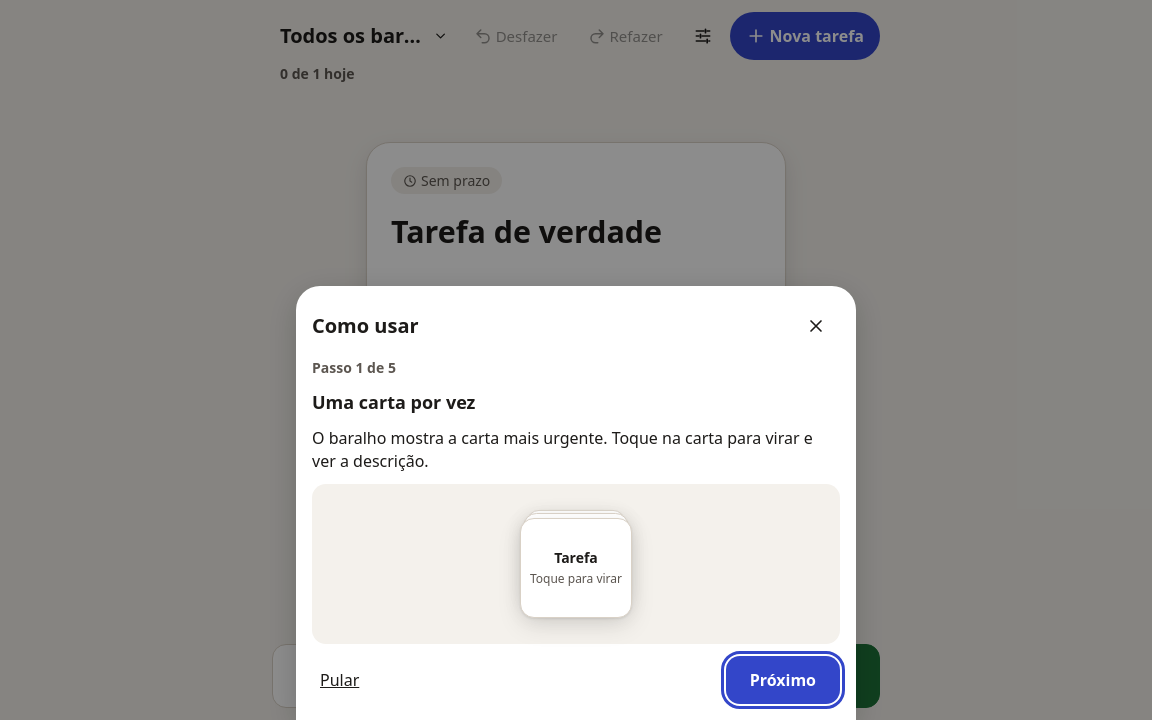
Test case: practice isolation › doing every exercise never touches the real deck, its history, its live region or storage
Click the button "Próximo".
click(783, 680)  # box [726,656,840,704]
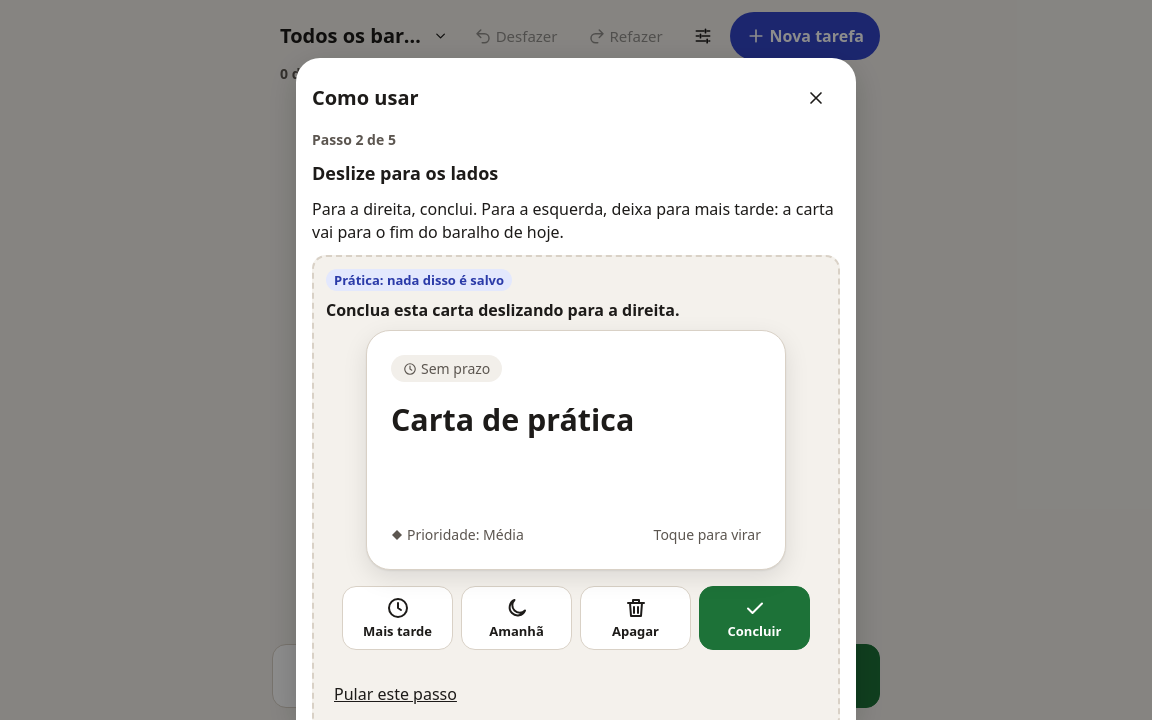
Click the button "Concluir".
click(754, 618)  # box [699,586,810,650]
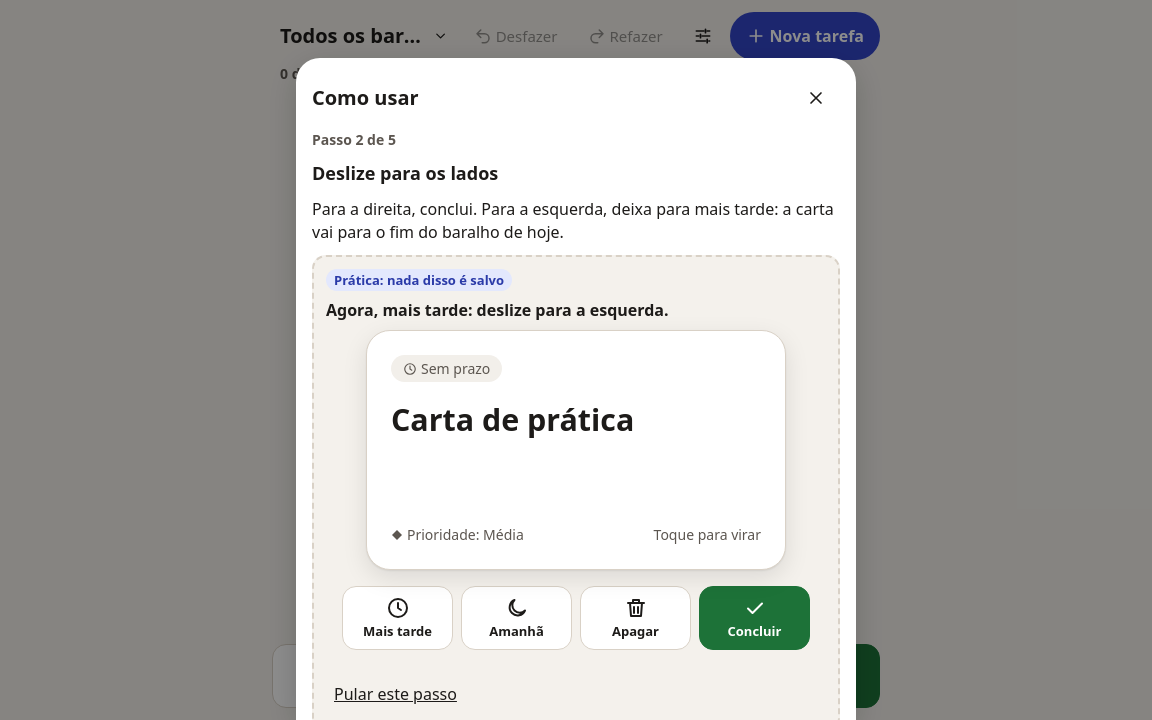
Expected: the element with test id "practice-deck" shows "Agora, mais tarde: deslize para a esquerda.", [326,299,668,321]
Click the button "Mais tarde".
click(398, 618)  # box [342,586,453,650]
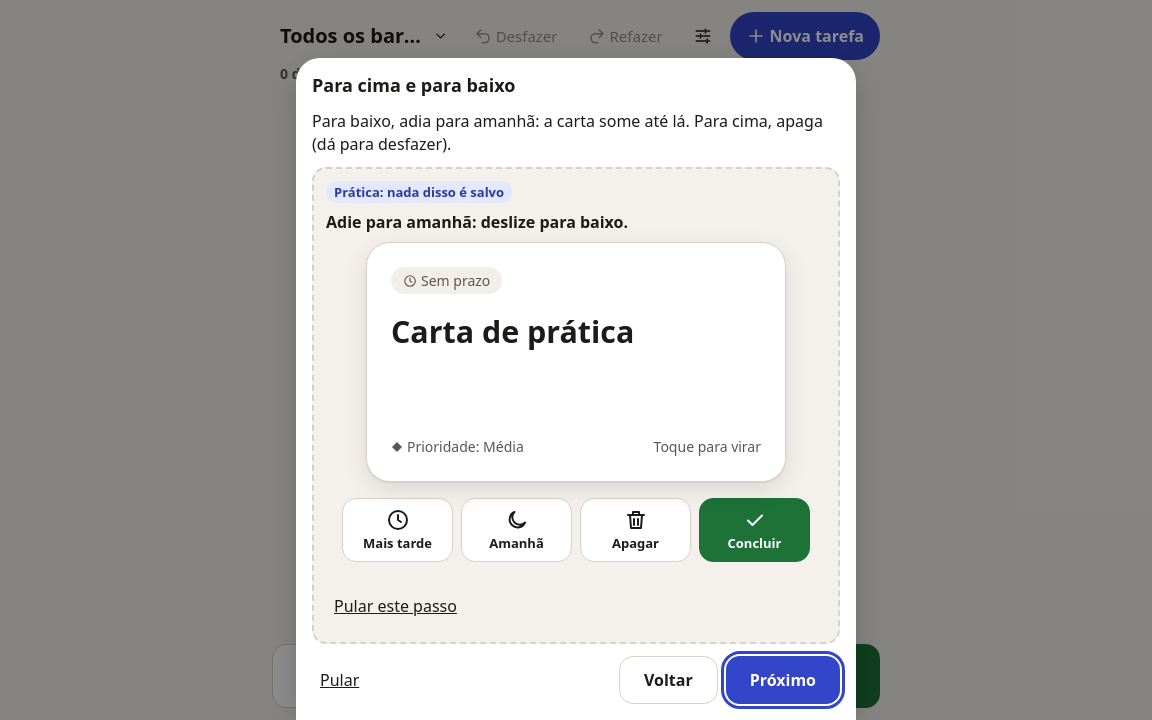
Click the button "Amanhã".
click(516, 530)  # box [461,498,572,562]
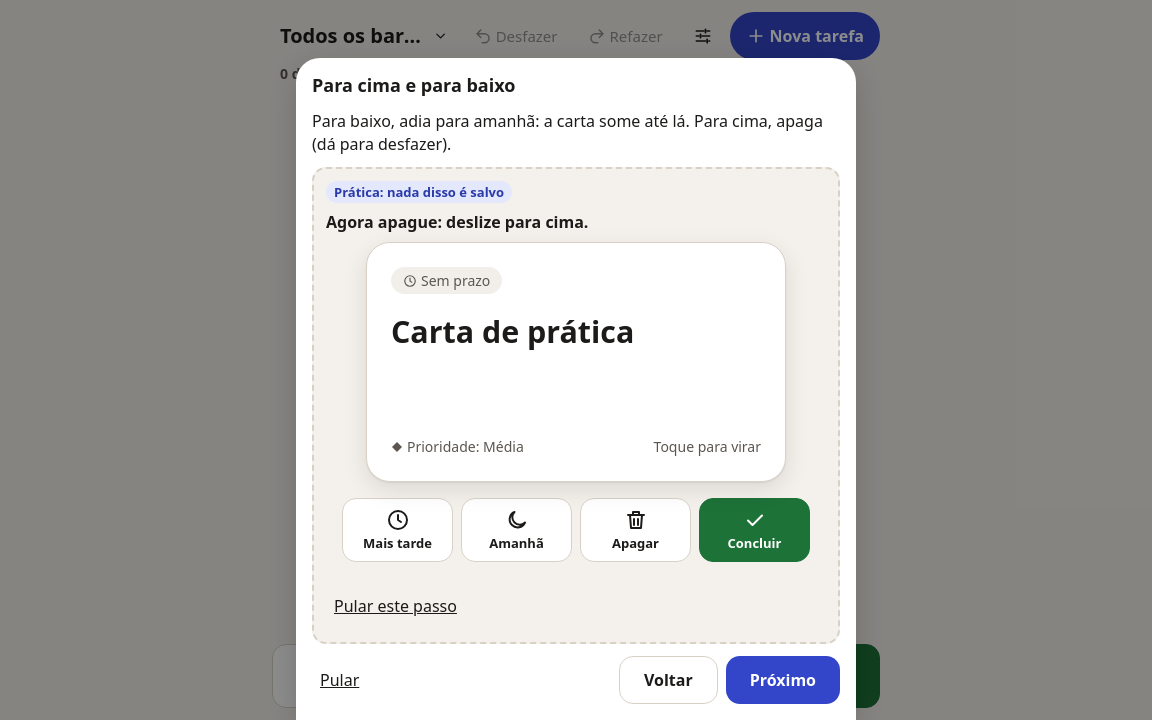
Expected: the element with test id "practice-deck" shows "Agora apague: deslize para cima.", [326,211,588,233]
Click the button "Apagar".
click(636, 530)  # box [580,498,691,562]
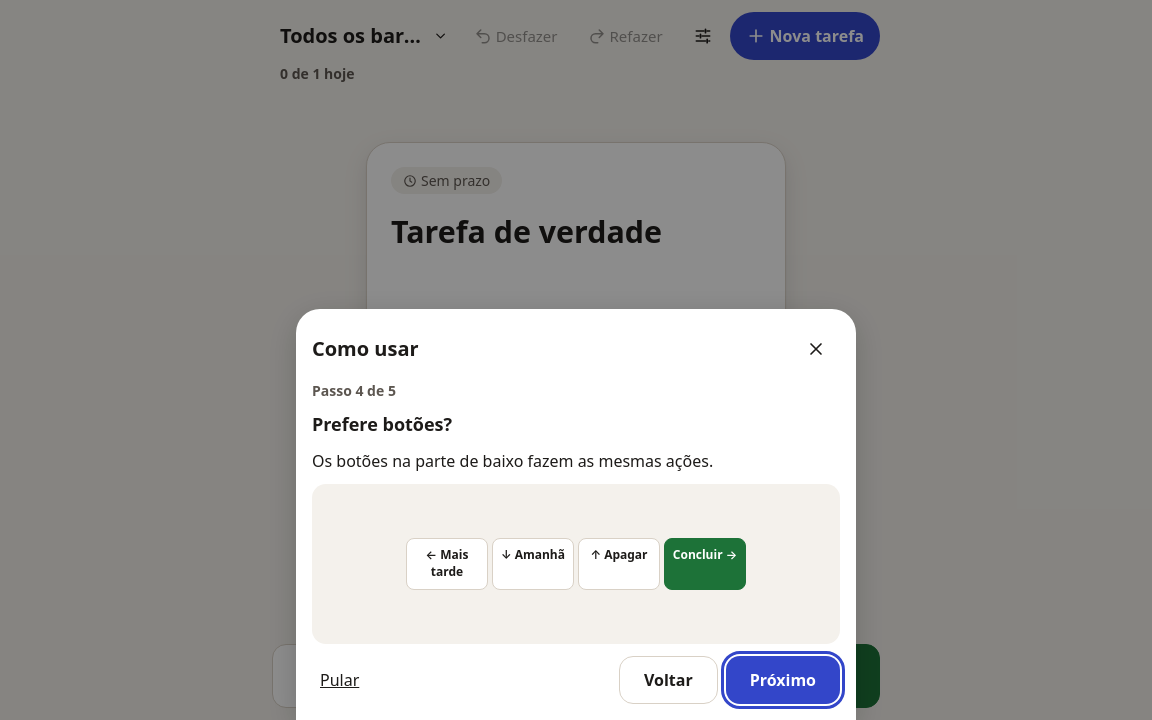
Expected: the button "Tarefa de verdade" is shown, [366,142,786,574]
Expected: the text with test id "how-to-progress" reads "Passo 4 de 5", [312,381,396,400]
